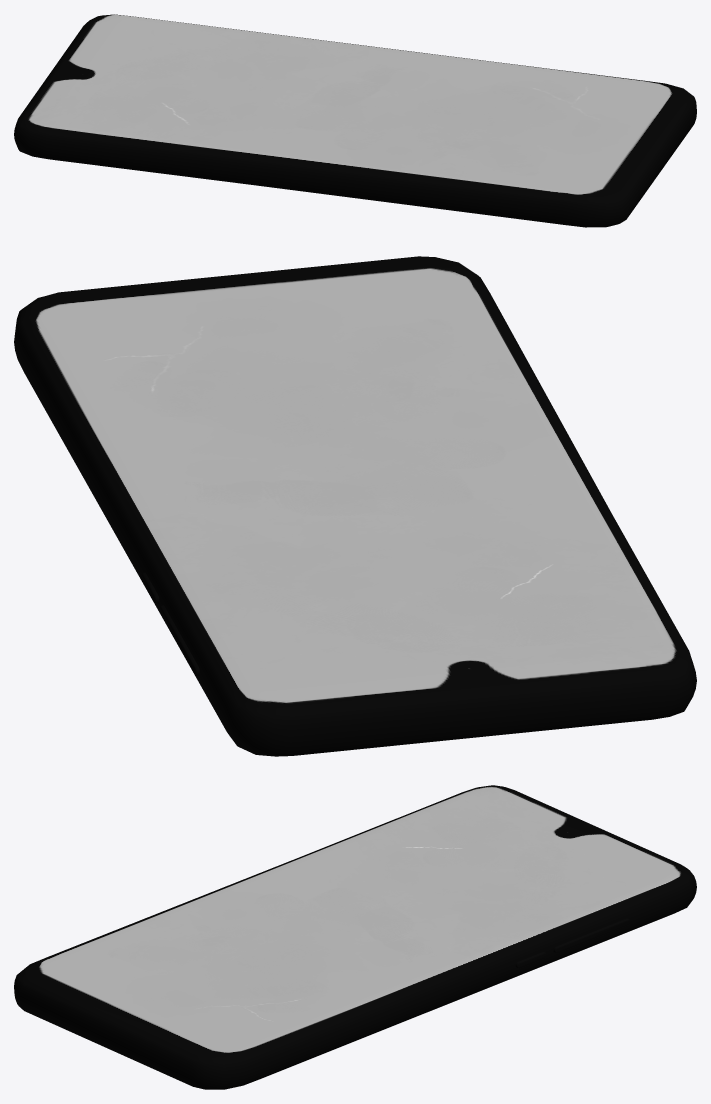
File: Smartphone.glb
The picture shows the model from 3 angles, top to bottom: view 1: azimuth 30°, elevation 25°; view 2: azimuth 150°, elevation 25°; view 3: azimuth 270°, elevation 25°; orthographic projection. The views are drawn at different scales.
Parts seen in each view (by area): view 1: Smartphone_Material_0.001; view 2: Smartphone_Material_0.001; view 3: Smartphone_Material_0.001.
Boxes of the visible parts, x1,y1,x2,y2 form: Smartphone_Material_0.001: [14, 14, 696, 227]; Smartphone_Material_0.001: [14, 256, 696, 756]; Smartphone_Material_0.001: [14, 785, 696, 1089].
Bounding box in the file's own units: 0.2188 × 0.0133 × 0.2243.
1 material, 1 textured.
